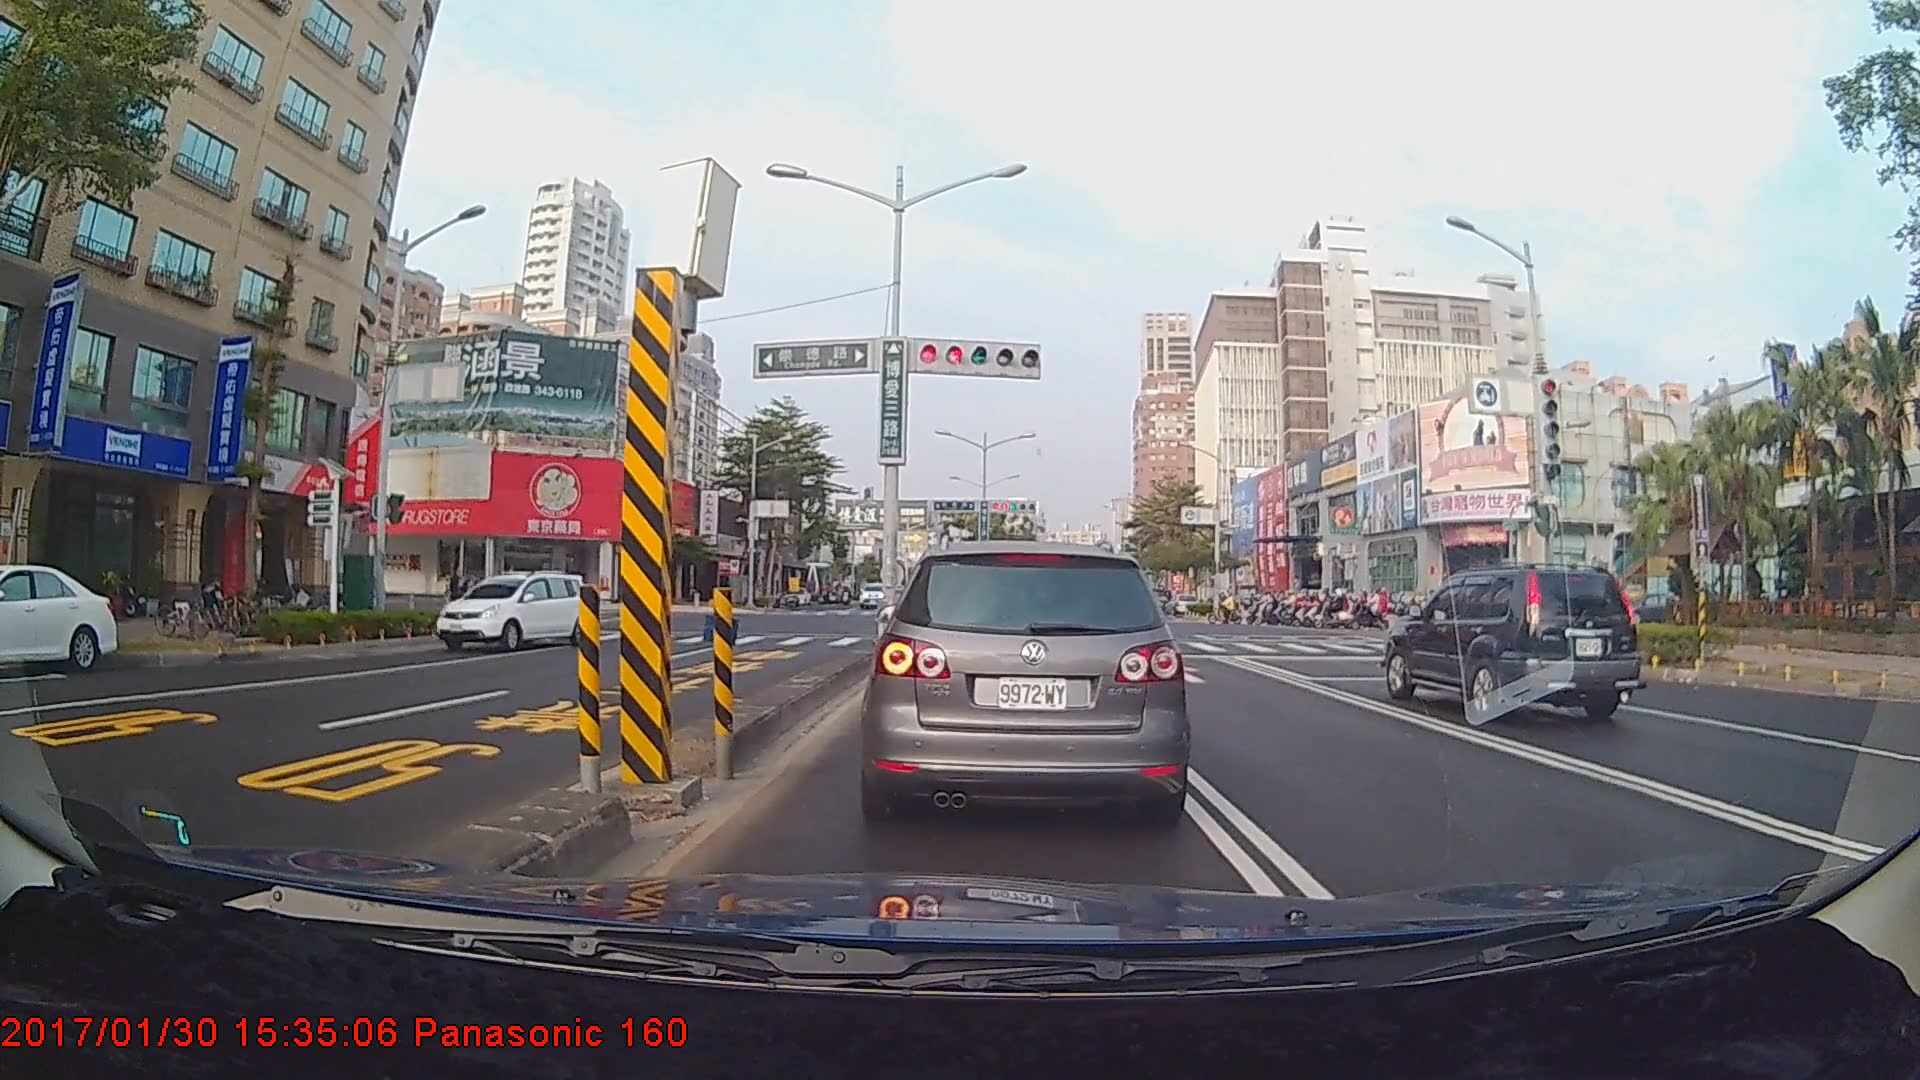pedestrian: (446, 566, 466, 629)
vehicle: (855, 524, 1195, 828), (1384, 560, 1638, 723), (0, 564, 118, 677), (434, 570, 590, 652)
